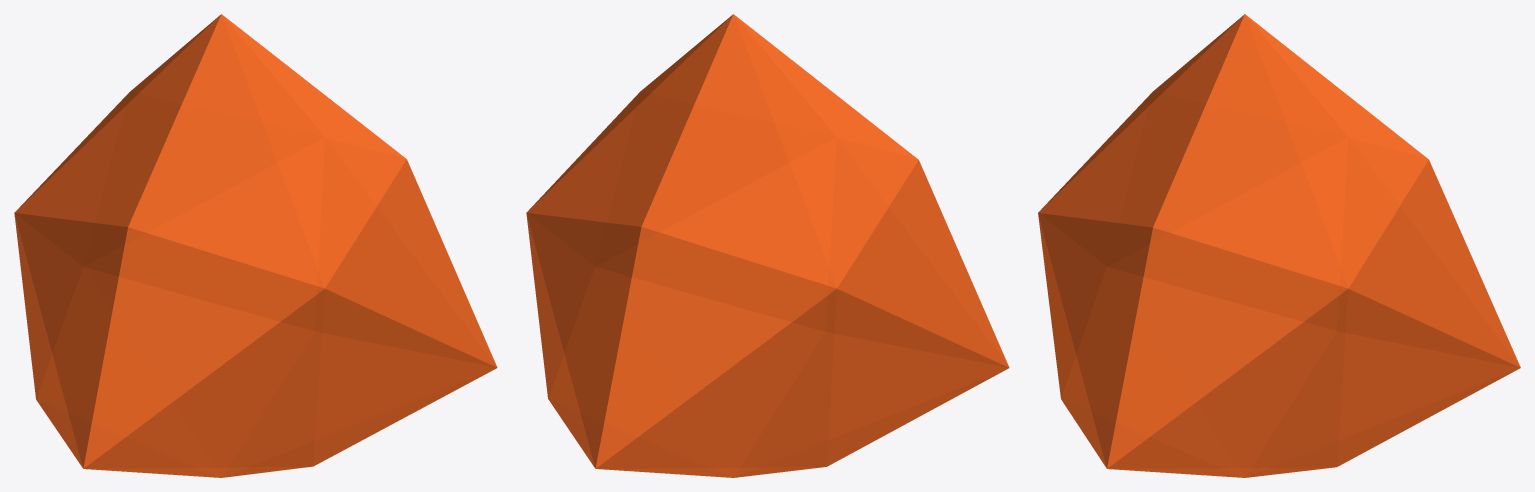
File: HexakisTetrahedron_n.obj
The picture shows the model from 3 angles, left to right: view 1: azimuth 30°, elevation 25°; view 2: azimuth 150°, elevation 25°; view 3: azimuth 270°, elevation 25°; orthographic projection.
Bounding box in the file's own units: 10.4 × 11.13 × 10.5.
